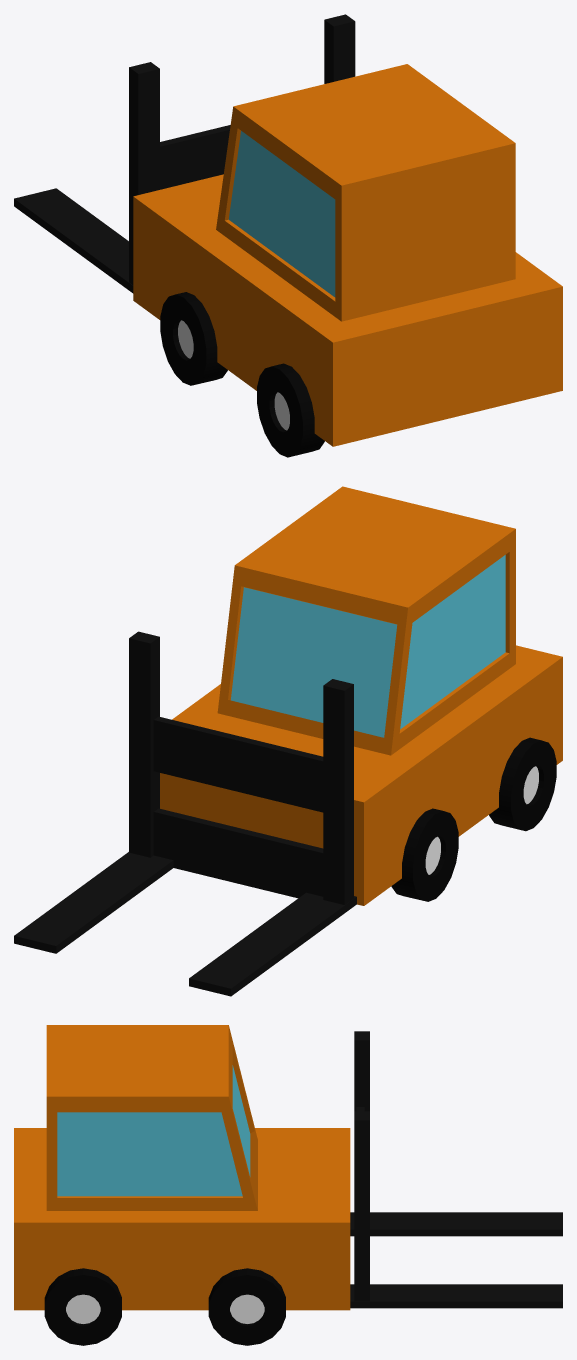
The model's file is Folklift.FBX.
3 renders of one model, top to bottom at view 1: azimuth 30°, elevation 25°; view 2: azimuth 150°, elevation 25°; view 3: azimuth 270°, elevation 25°, orthographic. The views are drawn at different scales.
Parts seen in each view (by area): view 1: Box002, Box001, Box005, Box009, Cylinder006, Cylinder007, Box007, Box008; view 2: Box002, Box001, Box007, Box006, Box009, Box008, Box005, Box004, Cylinder006, Cylinder007; view 3: Box001, Box002, Box004, Box005, Cylinder001, Cylinder005, Box008, Box009.
Part boxes in pixels (x1=…): Box002: x1=216, y1=64, x2=515, y2=321; Box001: x1=133, y1=174, x2=562, y2=446; Box005: x1=14, y1=188, x2=133, y2=293; Box009: x1=129, y1=62, x2=159, y2=284; Cylinder006: x1=257, y1=363, x2=324, y2=457; Cylinder007: x1=160, y1=292, x2=227, y2=385; Box007: x1=160, y1=125, x2=230, y2=189; Box008: x1=324, y1=14, x2=355, y2=83; Box002: x1=217, y1=486, x2=515, y2=755; Box001: x1=160, y1=645, x2=562, y2=905; Box007: x1=153, y1=716, x2=323, y2=812; Box006: x1=153, y1=808, x2=323, y2=898; Box009: x1=323, y1=679, x2=353, y2=904; Box008: x1=129, y1=631, x2=159, y2=857; Box005: x1=189, y1=892, x2=356, y2=996; Box004: x1=14, y1=852, x2=173, y2=953; Cylinder006: x1=489, y1=737, x2=556, y2=831; Cylinder007: x1=391, y1=808, x2=458, y2=901; Box001: x1=14, y1=1128, x2=350, y2=1310; Box002: x1=46, y1=1025, x2=257, y2=1210; Box004: x1=350, y1=1284, x2=562, y2=1308; Box005: x1=350, y1=1212, x2=562, y2=1236; Cylinder001: x1=44, y1=1268, x2=121, y2=1345; Cylinder005: x1=208, y1=1268, x2=285, y2=1345; Box008: x1=354, y1=1111, x2=369, y2=1301; Box009: x1=354, y1=1031, x2=369, y2=1111.
Bounding box in the file's own units: 27.64 × 28.19 × 60.57.
